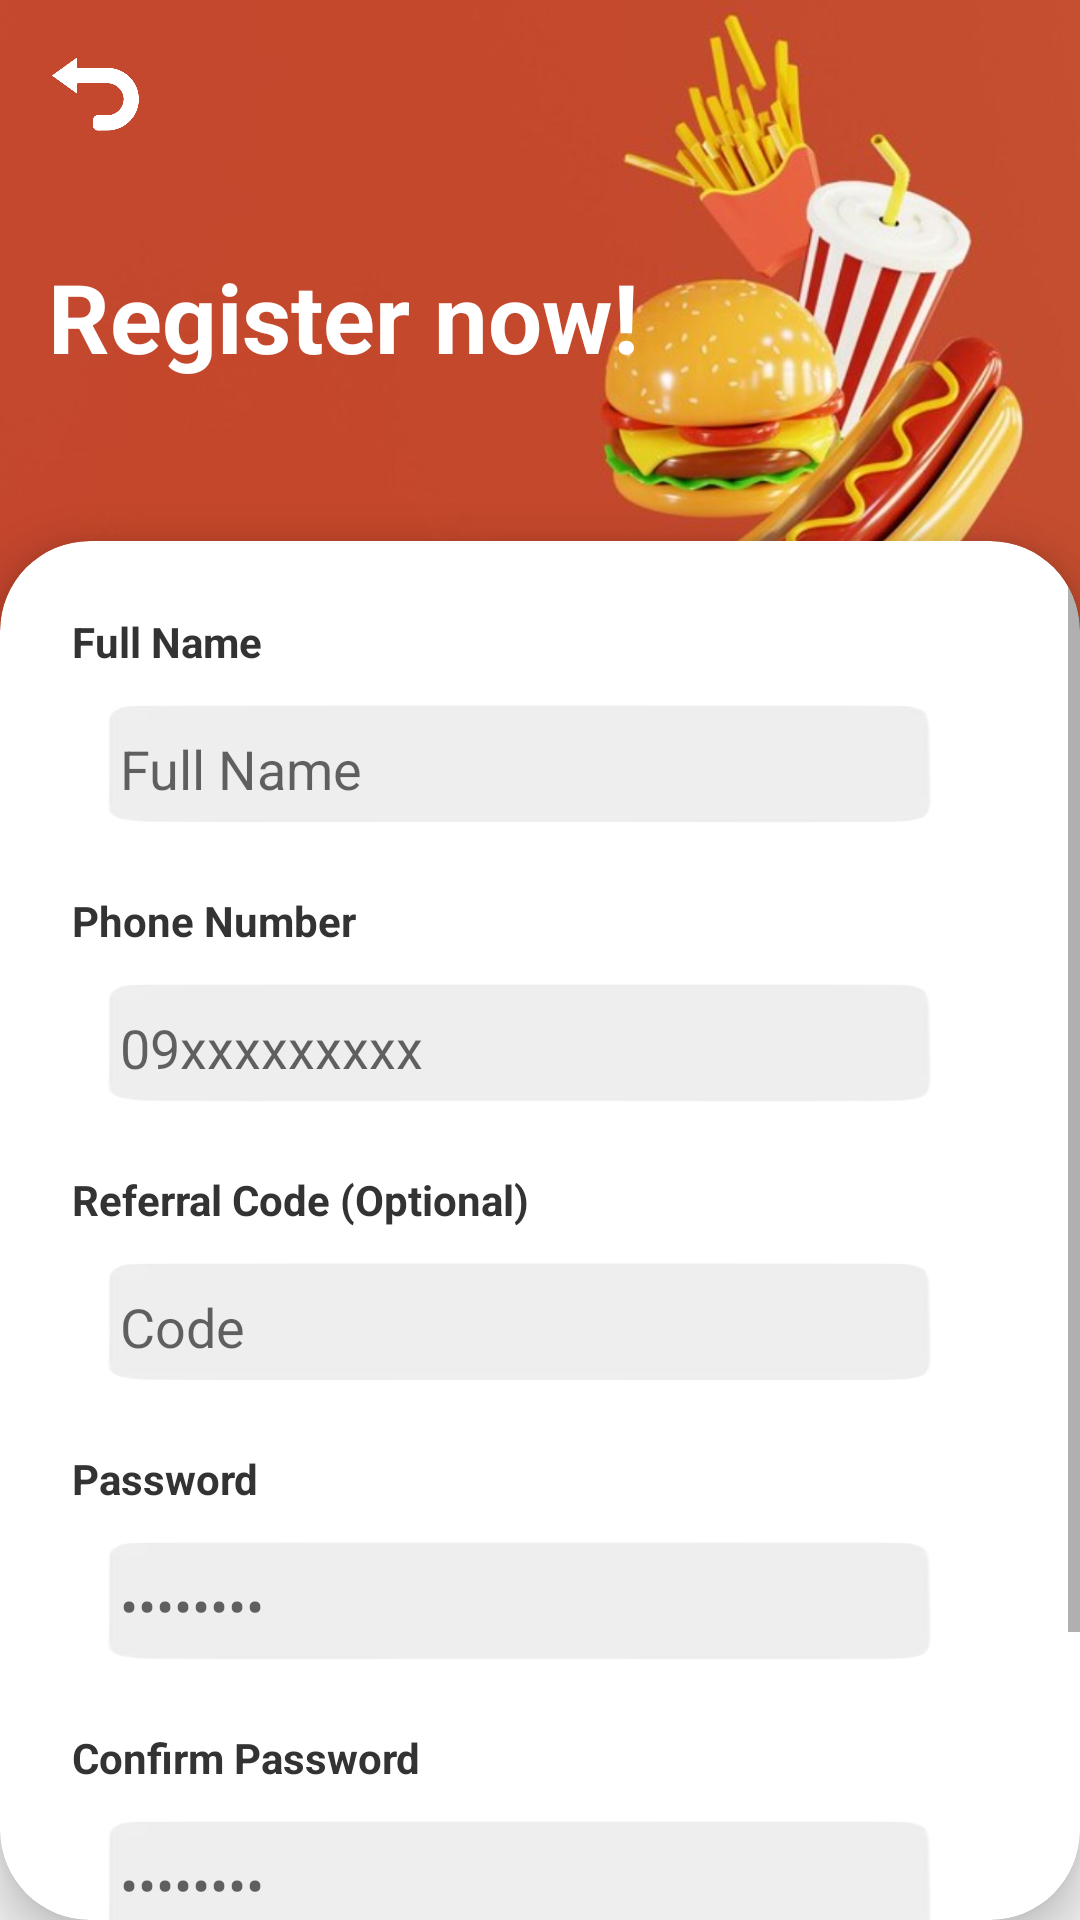

Icon bounding boxes for this 1080x1920 phone screenshot, format (x1, y1, x2, y2):
back: (52, 58, 139, 131)
